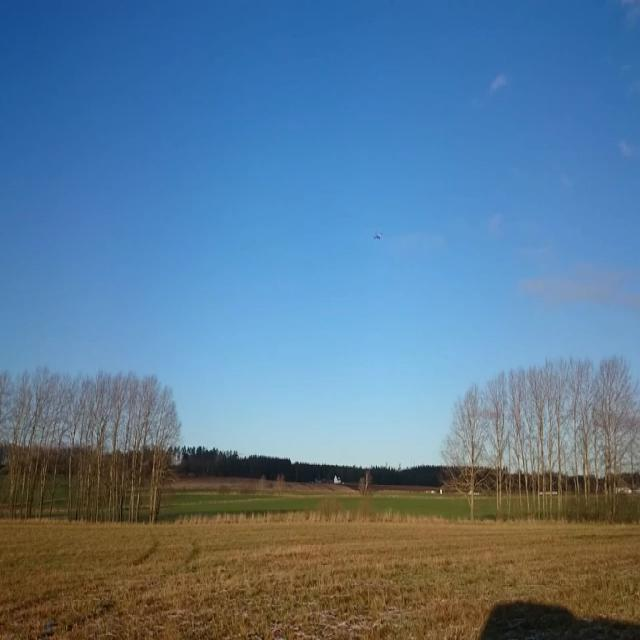Drone: (360, 217, 398, 253)
